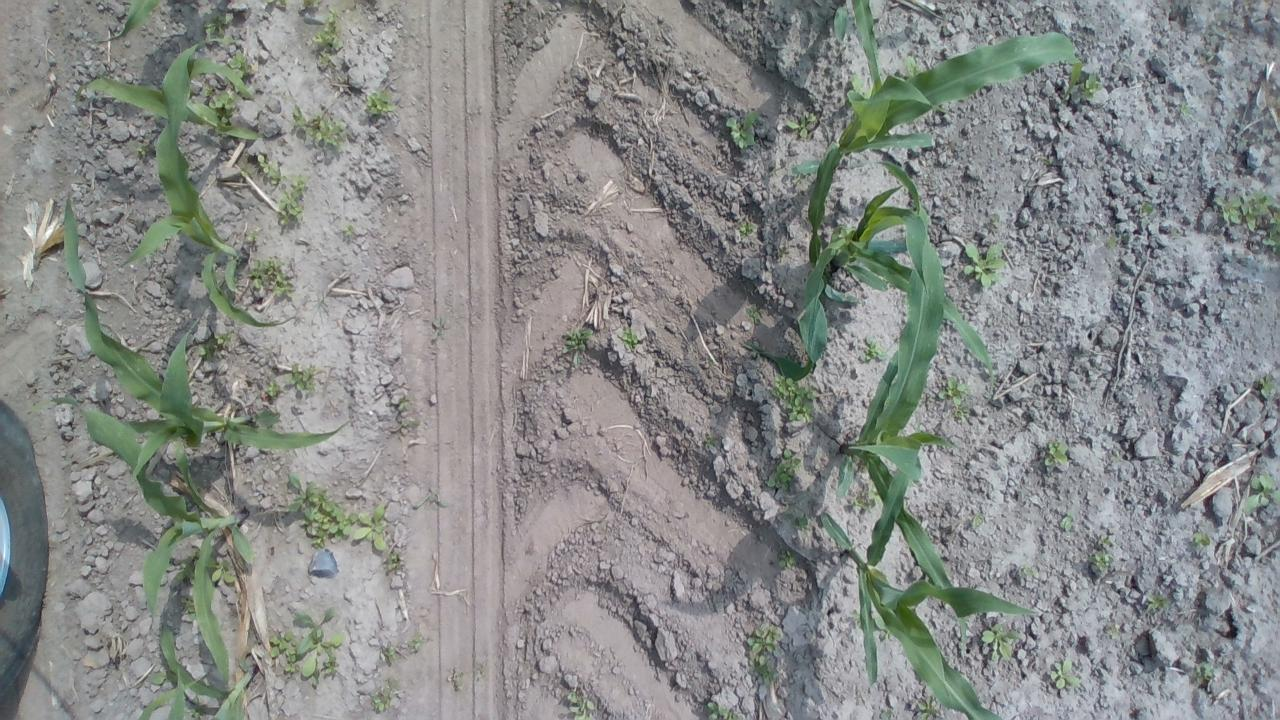Maize: (796, 0, 1086, 305), (64, 188, 358, 484), (26, 391, 257, 688), (835, 155, 968, 668), (736, 183, 997, 395), (115, 35, 300, 326), (816, 510, 1044, 719), (76, 58, 266, 141), (136, 618, 264, 720), (832, 0, 881, 90), (94, 1, 160, 44), (164, 666, 190, 718)
Weeds: (284, 472, 392, 552), (269, 606, 346, 690), (1208, 186, 1276, 236), (286, 99, 350, 150), (960, 240, 1008, 292), (772, 372, 818, 426), (246, 255, 296, 300), (747, 625, 783, 685), (276, 170, 308, 232), (557, 326, 596, 372), (1239, 472, 1280, 514), (766, 445, 803, 490), (980, 622, 1021, 662), (307, 6, 343, 51), (724, 108, 760, 152), (933, 373, 973, 406), (368, 676, 403, 712), (282, 360, 320, 391), (208, 88, 241, 123), (410, 486, 452, 511), (1048, 657, 1080, 689), (200, 5, 233, 35), (858, 334, 891, 364), (256, 154, 287, 185), (786, 110, 817, 141), (1043, 438, 1073, 468), (365, 88, 396, 117), (851, 482, 880, 512), (567, 692, 596, 720), (1260, 210, 1280, 250), (614, 324, 641, 352), (1082, 70, 1106, 101), (228, 48, 252, 78), (210, 557, 236, 582), (704, 701, 738, 720), (745, 300, 768, 328), (1086, 550, 1116, 571), (916, 695, 940, 720), (1138, 200, 1156, 233), (1259, 371, 1278, 402), (1144, 590, 1170, 612), (178, 594, 196, 624), (1188, 530, 1212, 552), (1194, 657, 1214, 683), (391, 416, 423, 432), (430, 314, 446, 346), (378, 640, 398, 664), (738, 220, 758, 244), (448, 666, 466, 692), (196, 340, 217, 362), (406, 630, 426, 651), (175, 561, 194, 583), (778, 549, 796, 571), (1060, 508, 1076, 532), (1018, 563, 1042, 579), (875, 618, 891, 642), (214, 330, 232, 350), (384, 551, 402, 571), (952, 404, 974, 420), (904, 54, 920, 76), (316, 52, 333, 72), (794, 512, 811, 532), (264, 380, 281, 399), (386, 398, 412, 410), (1178, 99, 1195, 117), (1097, 532, 1116, 548), (987, 210, 1003, 229), (1105, 231, 1119, 250), (240, 154, 250, 180), (776, 242, 792, 258), (969, 512, 984, 529), (1108, 620, 1122, 638), (704, 434, 716, 454), (245, 230, 261, 244), (476, 664, 490, 680), (879, 707, 896, 720), (299, 0, 323, 8), (266, 0, 290, 7), (188, 548, 200, 560), (852, 608, 861, 624), (1110, 450, 1120, 464), (342, 224, 353, 236), (137, 146, 148, 158), (1170, 228, 1180, 240), (204, 85, 212, 98), (1041, 158, 1051, 168)
